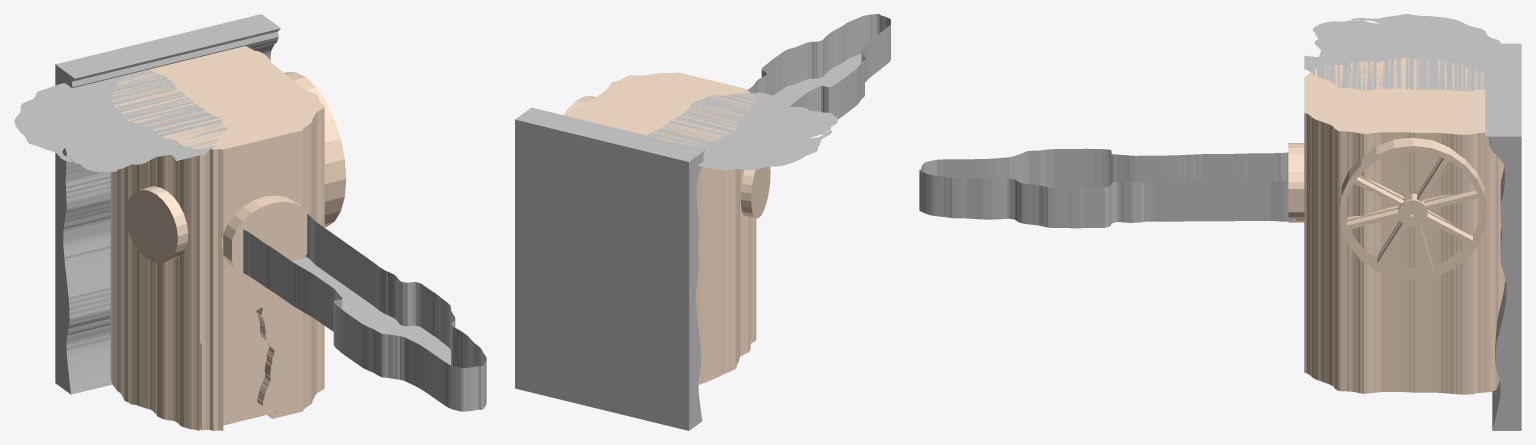
File: roma_yeni.obj
3 renders of one model, left to right at view 1: azimuth 30°, elevation 25°; view 2: azimuth 150°, elevation 25°; view 3: azimuth 270°, elevation 25°, orthographic. The views are drawn at different scales.
Parts seen in each view (by area): view 1: obj133, obj758, obj720, obj135, obj43, obj718, obj401, obj47, obj1224, obj719, obj139, obj717 (+36 smaller); view 2: obj41, obj133, obj758, obj43, obj47, obj1224, obj322, obj336, obj346, obj168, obj333, obj303 (+17 smaller); view 3: obj133, obj758, obj45, obj43, obj995, obj173, obj176, obj181, obj187, obj217, obj281, obj266 (+52 smaller).
Part boxes in pixels (box(x1,y1,x2,y2)): obj133: box(14, 69, 227, 172); obj758: box(111, 46, 324, 149); obj720: box(223, 255, 303, 418); obj135: box(223, 130, 303, 233); obj43: box(56, 14, 280, 78); obj718: box(223, 310, 270, 425); obj401: box(232, 202, 310, 278); obj47: box(55, 64, 74, 394); obj1224: box(292, 256, 450, 364); obj719: box(218, 149, 223, 430); obj139: box(151, 192, 177, 263); obj717: box(213, 149, 217, 430); obj41: box(515, 119, 688, 430); obj133: box(647, 92, 837, 170); obj758: box(565, 72, 756, 146); obj43: box(515, 107, 704, 161); obj47: box(689, 150, 705, 430); obj1224: box(774, 53, 861, 106); obj322: box(701, 167, 703, 382); obj336: box(715, 169, 717, 377); obj346: box(703, 167, 704, 382); obj168: box(751, 168, 760, 218); obj333: box(706, 167, 707, 381); obj303: box(705, 167, 706, 381); obj133: box(1304, 14, 1500, 91); obj758: box(1304, 57, 1485, 134); obj45: box(1486, 136, 1521, 430); obj43: box(1485, 43, 1521, 136); obj995: box(1339, 146, 1486, 279); obj173: box(1304, 113, 1306, 373); obj176: box(1318, 120, 1320, 380); obj181: box(1327, 124, 1329, 383); obj187: box(1331, 126, 1333, 385); obj217: box(1337, 131, 1339, 390); obj281: box(1487, 138, 1489, 392); obj266: box(1489, 140, 1491, 391).
Size of the model in its own units: 78.01 by 80.46 by 149.
